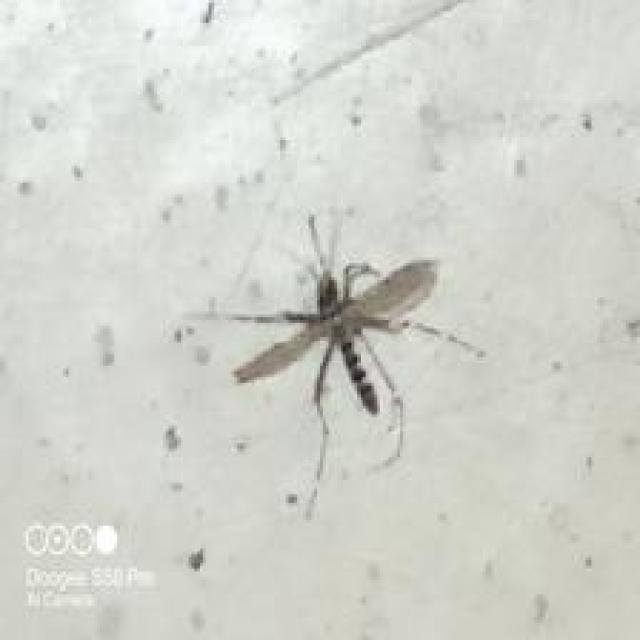Aedes albopictus: (176, 207, 487, 519)
